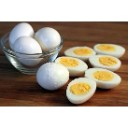begg: (37, 63, 70, 89), (87, 68, 121, 86), (94, 42, 126, 57), (36, 28, 61, 47), (14, 35, 34, 54)
